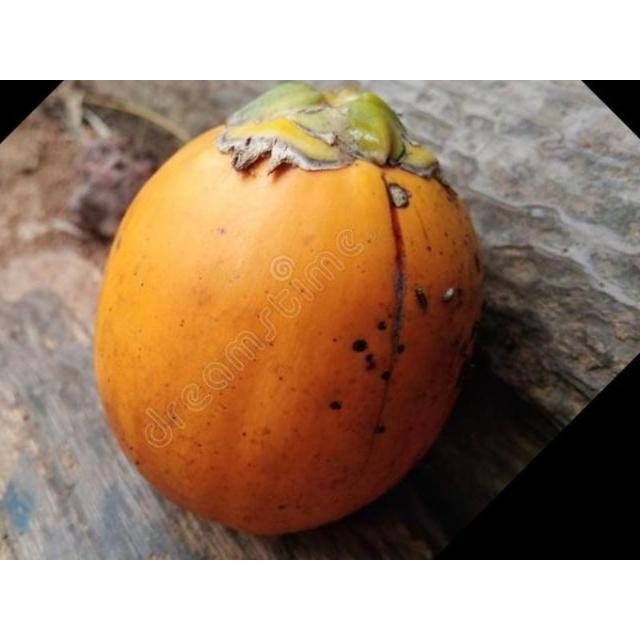good: (92, 84, 488, 539)
